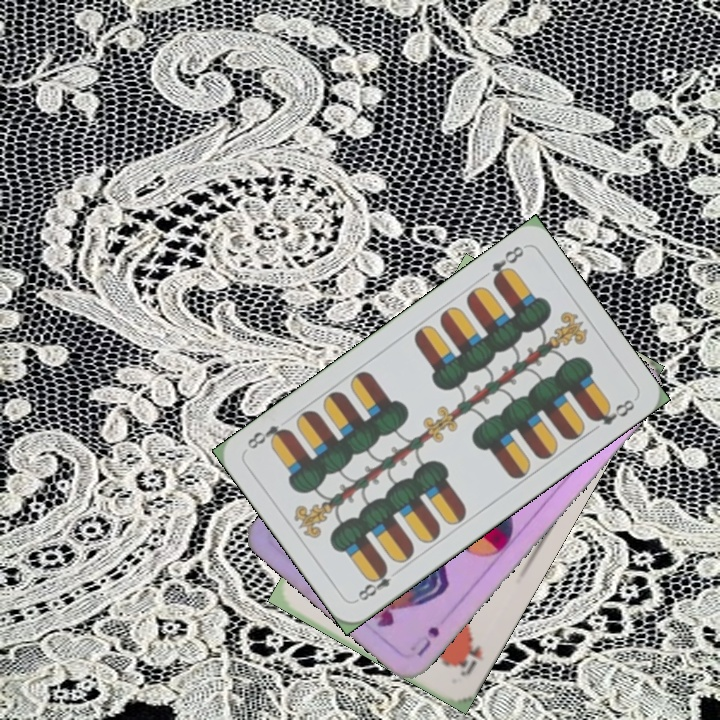E8: (487, 241, 527, 287), (352, 562, 394, 604)
HO: (452, 633, 486, 679)
SU: (406, 622, 442, 659)
